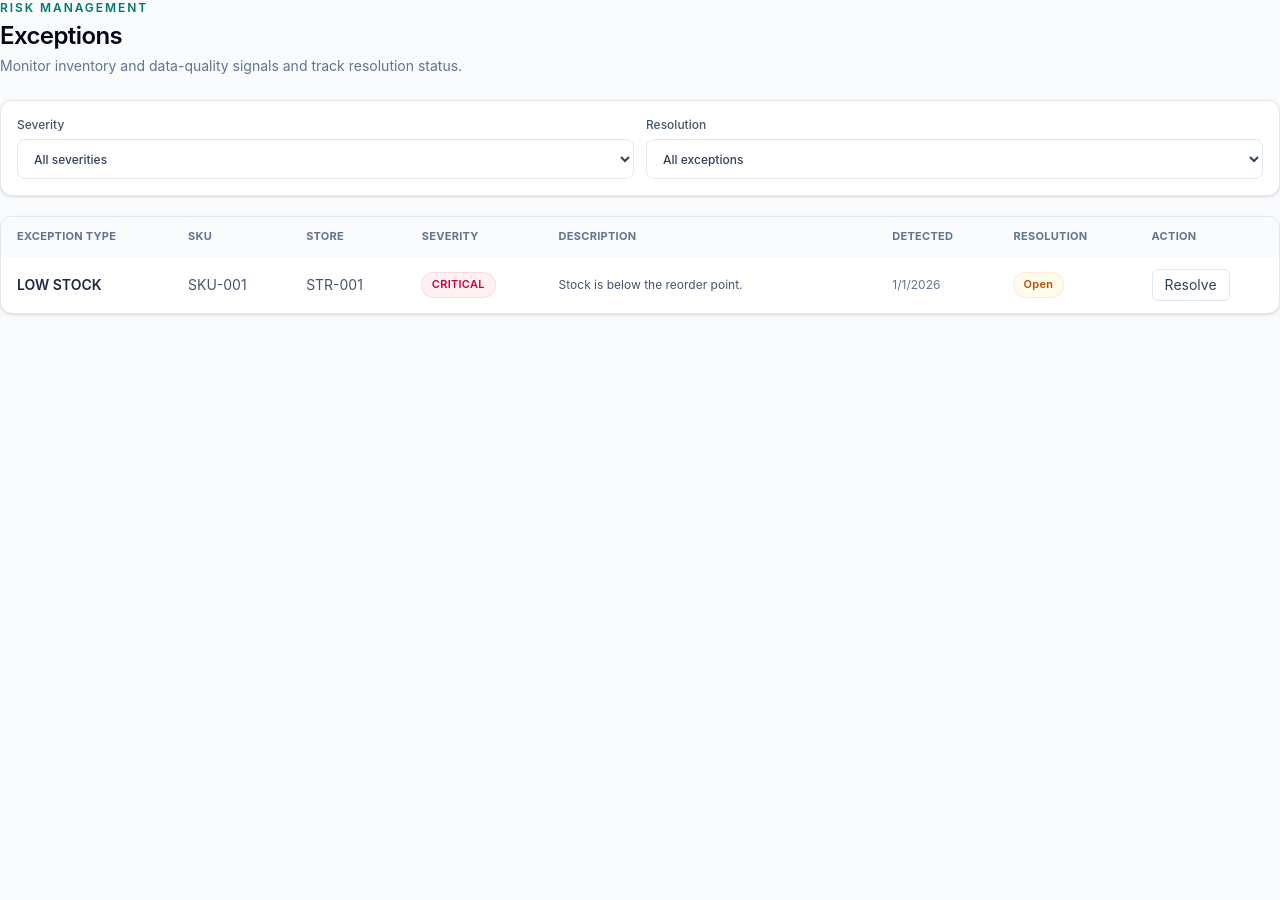
Test case: dashboard and operational pages › shows open exceptions and exposes the resolution workflow without changing records
expect the text "Stock is below the reorder point." is shown: met, box [543,257,876,313]
Click the button "Resolve" at (1191, 285), box [1152,269,1230,301]
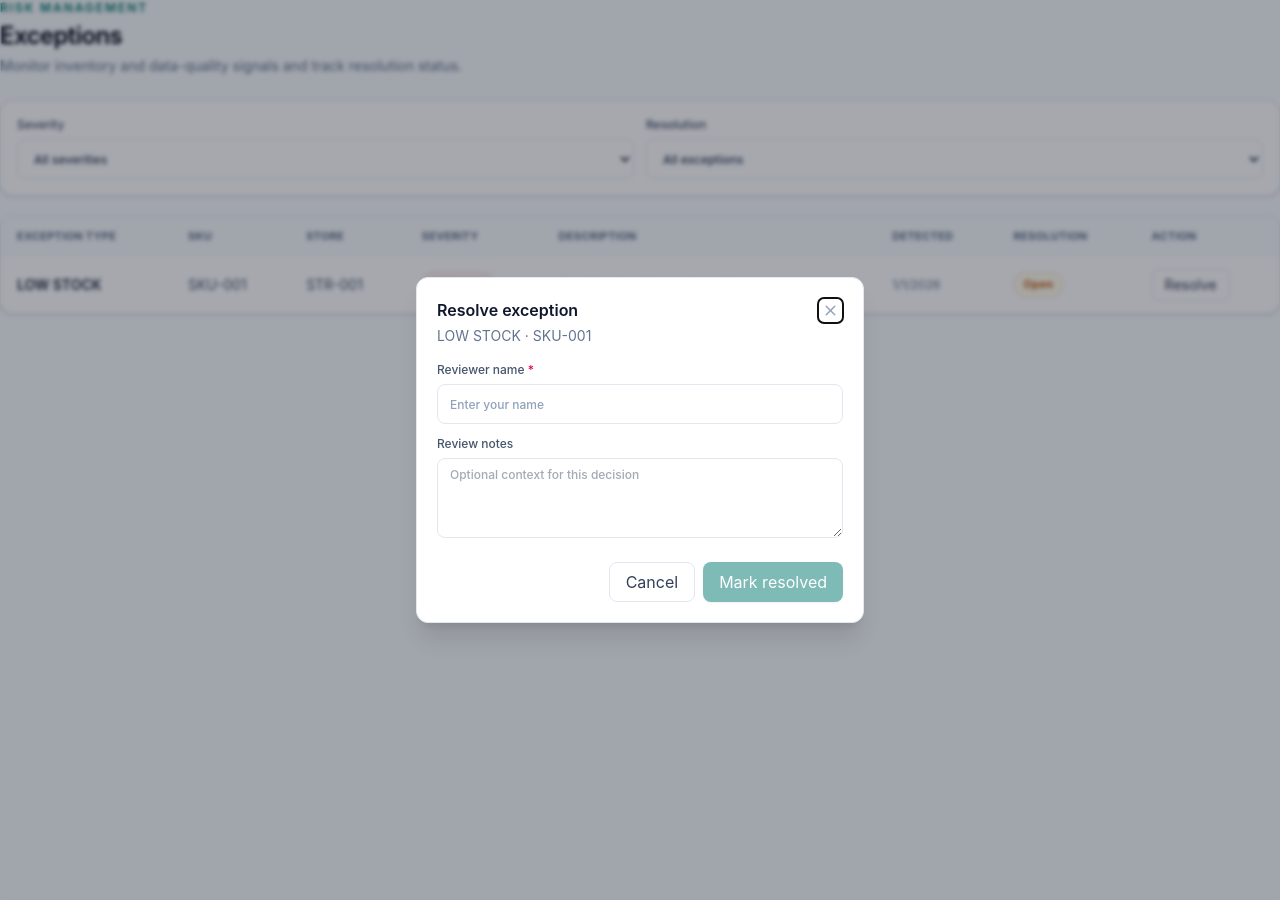
expect the dialog shows "Resolve exception": met, box [437,300,578,320]
